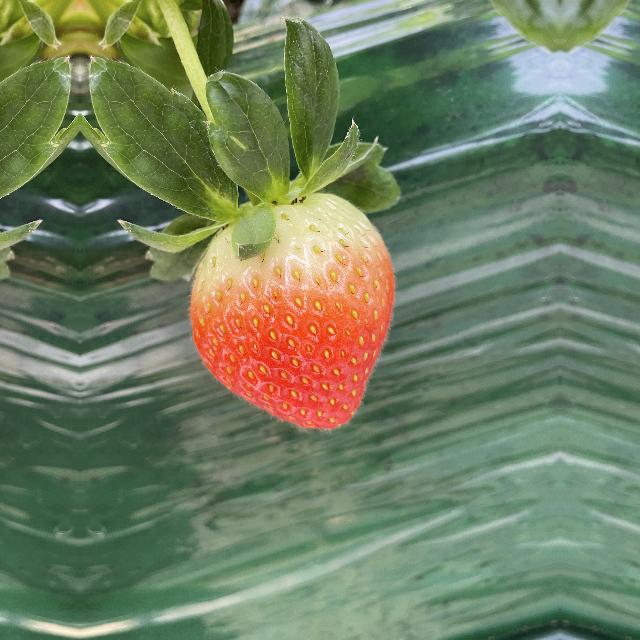Health_100: (180, 182, 402, 438)
